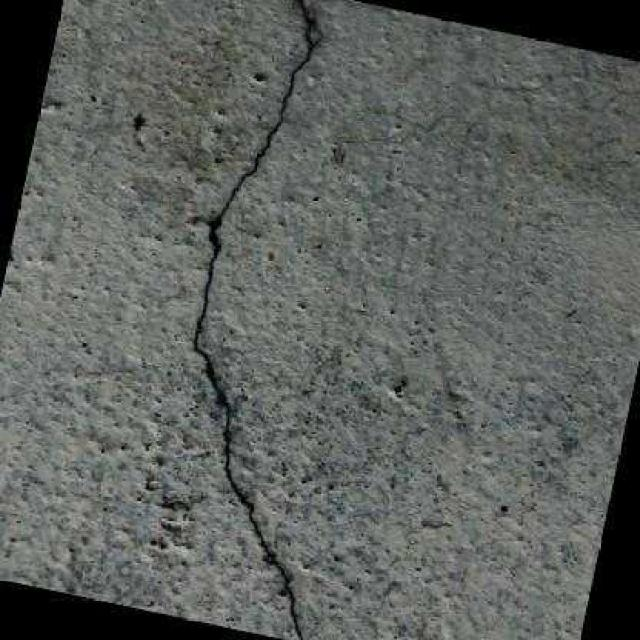D00: (193, 0, 312, 640)
